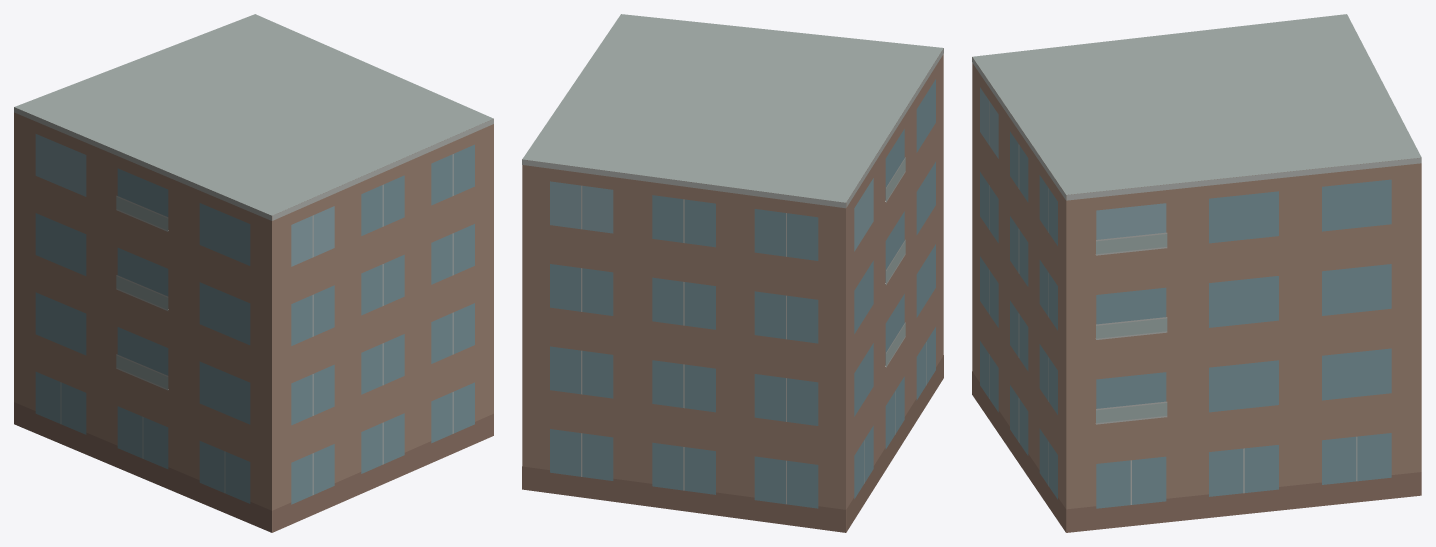
Rendered from survey-upis-32812547.glb.
The picture shows the model from 3 angles, left to right: view 1: azimuth 30°, elevation 25°; view 2: azimuth 150°, elevation 25°; view 3: azimuth 270°, elevation 25°; orthographic projection. The views are drawn at different scales.
Visible parts, largest first — view 1: survey-upis-32812547.tmp; view 2: survey-upis-32812547.tmp; view 3: survey-upis-32812547.tmp.
Boxes of the visible parts, left/top/right/bottom form: survey-upis-32812547.tmp: left=14, top=14, right=493, bottom=532; survey-upis-32812547.tmp: left=522, top=14, right=943, bottom=532; survey-upis-32812547.tmp: left=972, top=14, right=1421, bottom=532.
Size of the model in its own units: 16.72 by 14.55 by 17.56.
